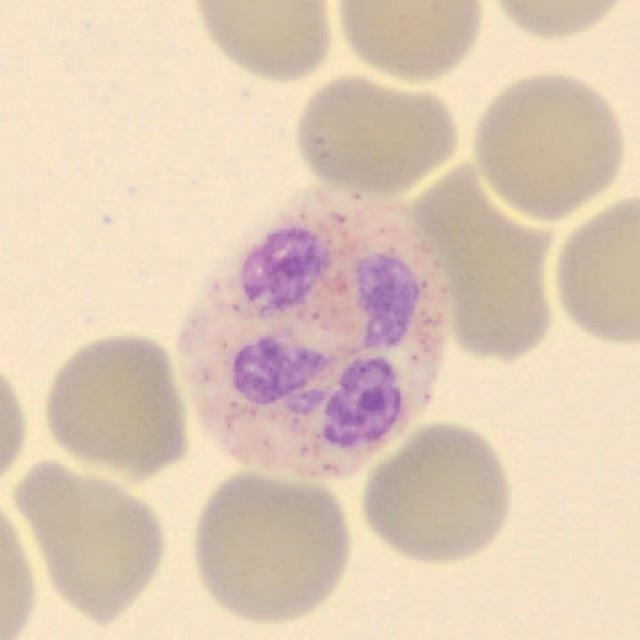Neutrofilo segmentado: (176, 188, 452, 484)
